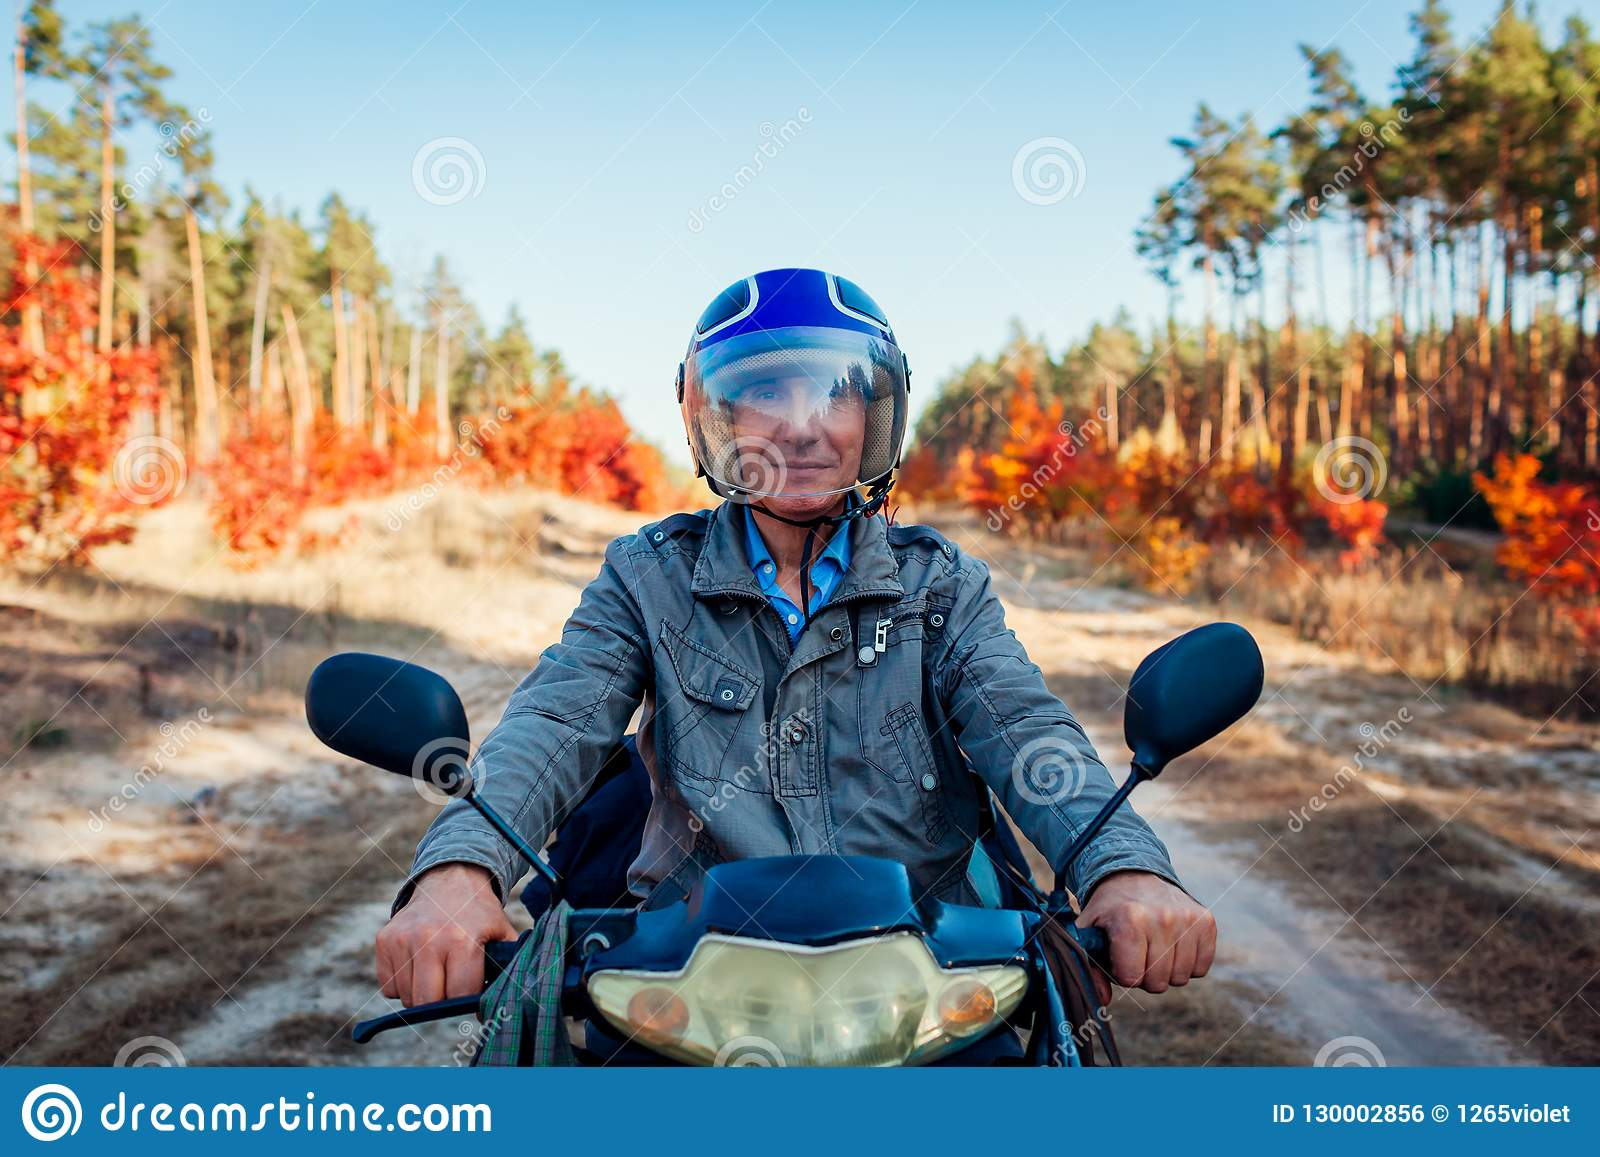helmet: (658, 286, 923, 521)
